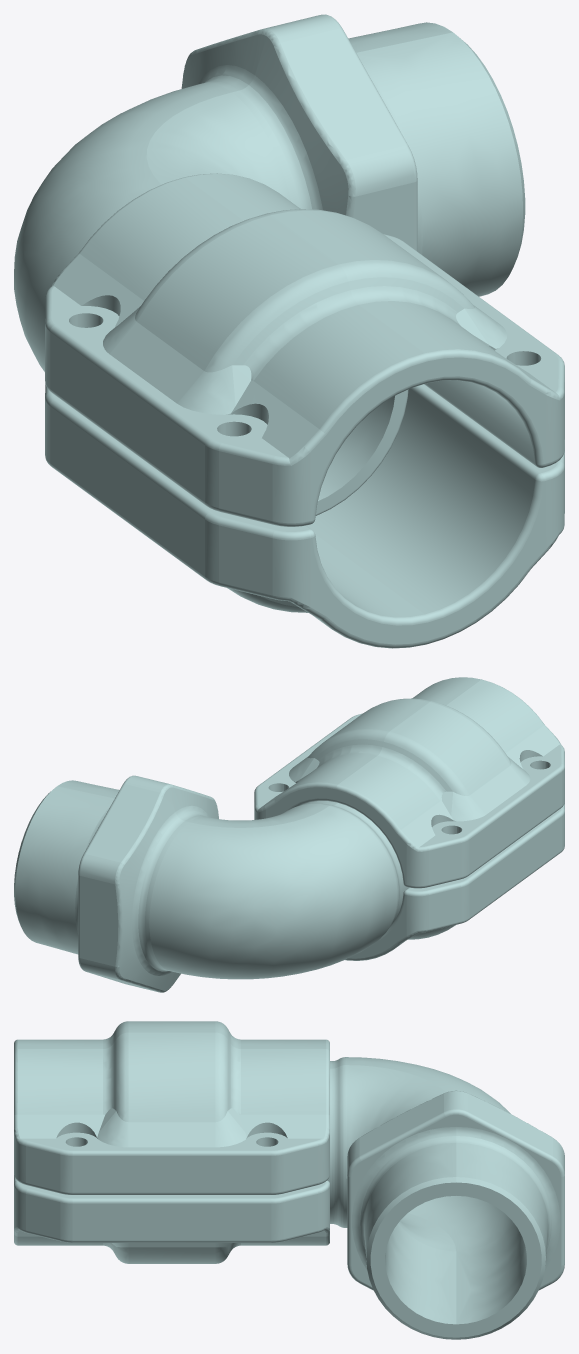
The picture shows the model from 3 angles, top to bottom: view 1: azimuth 30°, elevation 25°; view 2: azimuth 150°, elevation 25°; view 3: azimuth 270°, elevation 25°; orthographic projection. The views are drawn at different scales.
Bounding box in the file's own units: 101 × 60.15 × 136.
